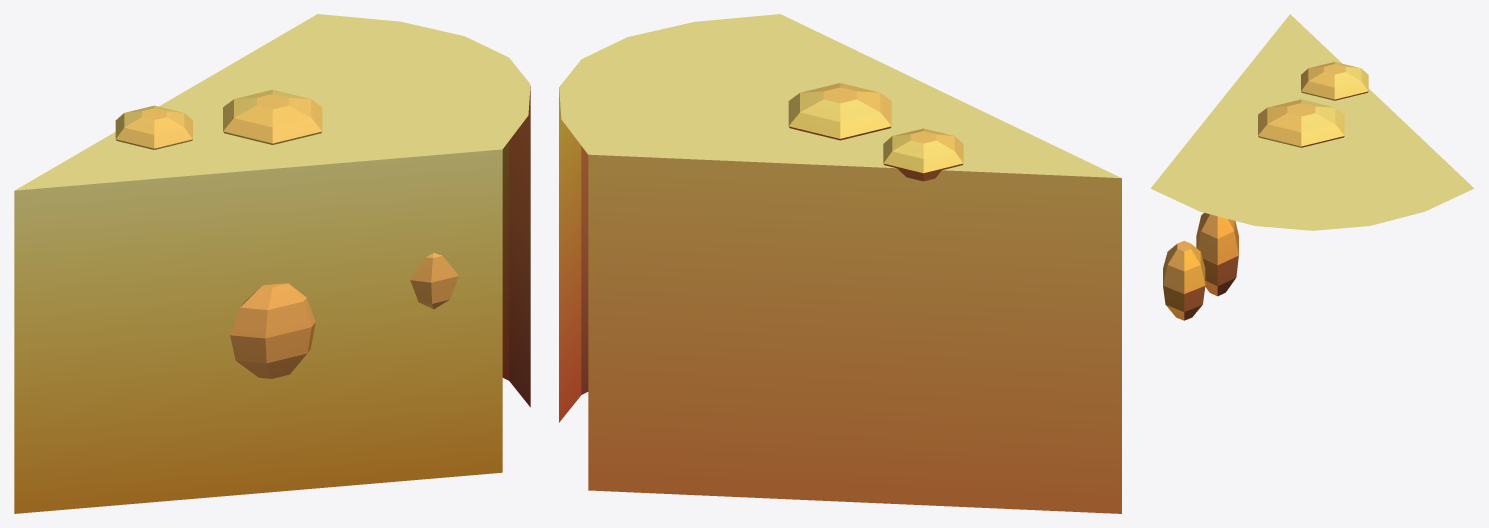
Rendered from source.glb.
The picture shows the model from 3 angles, left to right: view 1: azimuth 30°, elevation 25°; view 2: azimuth 150°, elevation 25°; view 3: azimuth 270°, elevation 25°; orthographic projection. The views are drawn at different scales.
Parts seen in each view (by area): view 1: model; view 2: model; view 3: model.
Boxes of the visible parts, x1=… form: model: x1=14, y1=14, x2=530, y2=513; model: x1=559, y1=14, x2=1121, y2=513; model: x1=1150, y1=14, x2=1473, y2=320.
Size of the model in its own units: 0.46 by 0.2971 by 0.2905.
Materials: 1 (1 with a texture image).
